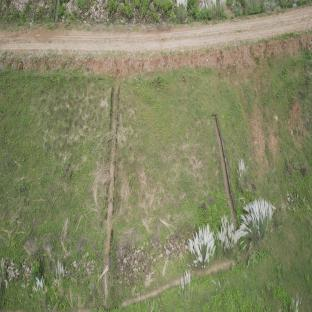rock_toe: (116, 219, 232, 298), (3, 258, 101, 303)
slope_drain: (101, 85, 119, 293), (211, 114, 238, 232)
toe_drain: (117, 250, 249, 309)
vegetation: (189, 201, 269, 264)
